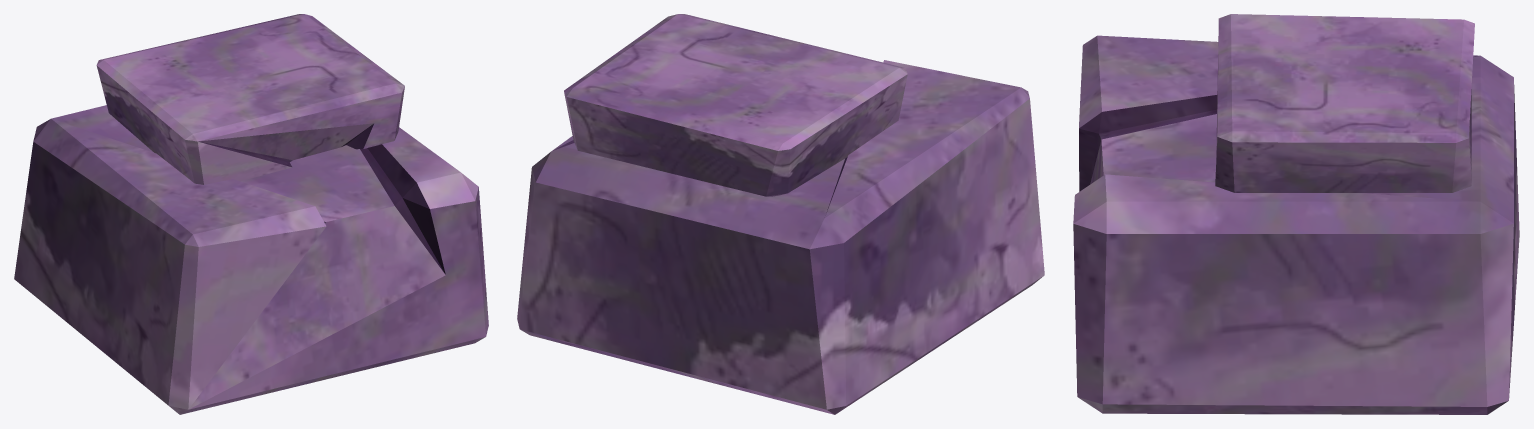
Rendered from pm-str-ruins-03.glb.
3 views of the same model, side by side, from view 1: azimuth 30°, elevation 25°; view 2: azimuth 150°, elevation 25°; view 3: azimuth 270°, elevation 25° (orthographic). The views are drawn at different scales.
Parts seen in each view (by area): view 1: Str_Ruins_03_Art; view 2: Str_Ruins_03_Art; view 3: Str_Ruins_03_Art.
Boxes of the visible parts, <box> form: Str_Ruins_03_Art: <box>14,14,488,414</box>; Str_Ruins_03_Art: <box>517,14,1044,414</box>; Str_Ruins_03_Art: <box>1073,14,1519,414</box>.
Size of what is drawn, in the model's own units: 1.91 by 1.27 by 1.92.
1 material, 1 textured.
